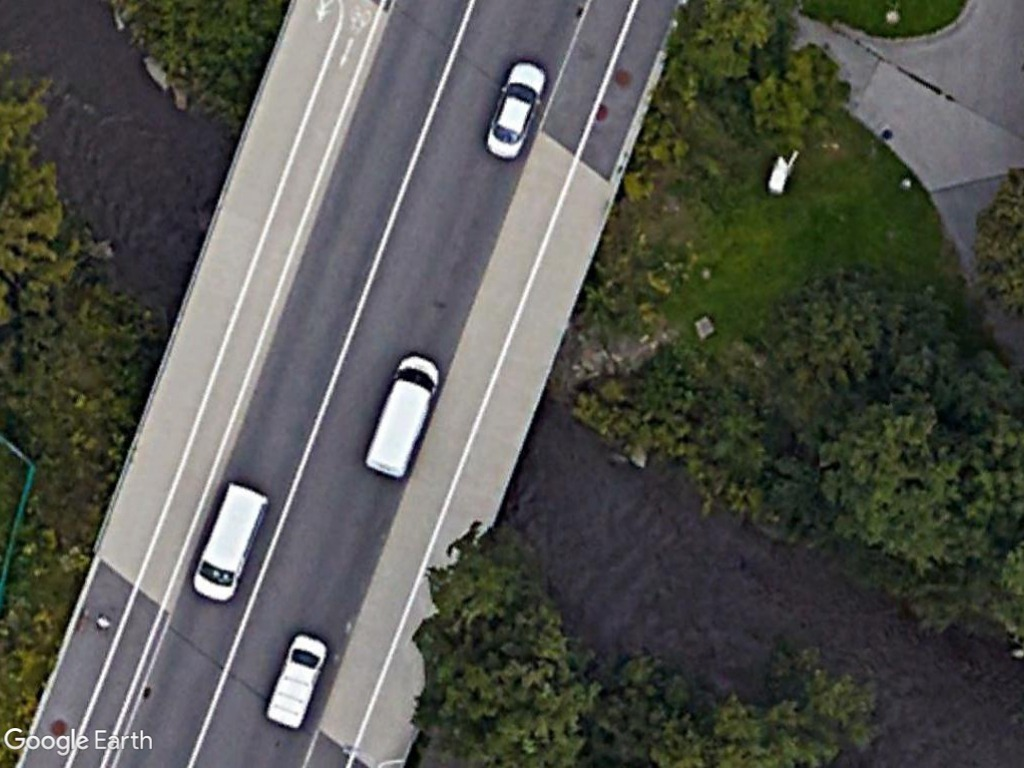car: (480, 55, 550, 161)
van: (359, 346, 447, 484), (185, 474, 271, 606), (261, 627, 329, 735)
